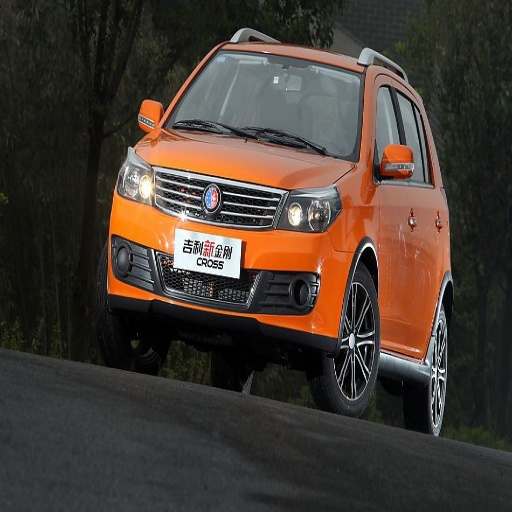front_bumper: (108, 167, 356, 336)
front_glass: (160, 47, 364, 159)
front_left_door: (371, 70, 419, 324)
front_right_light: (117, 159, 155, 204)
